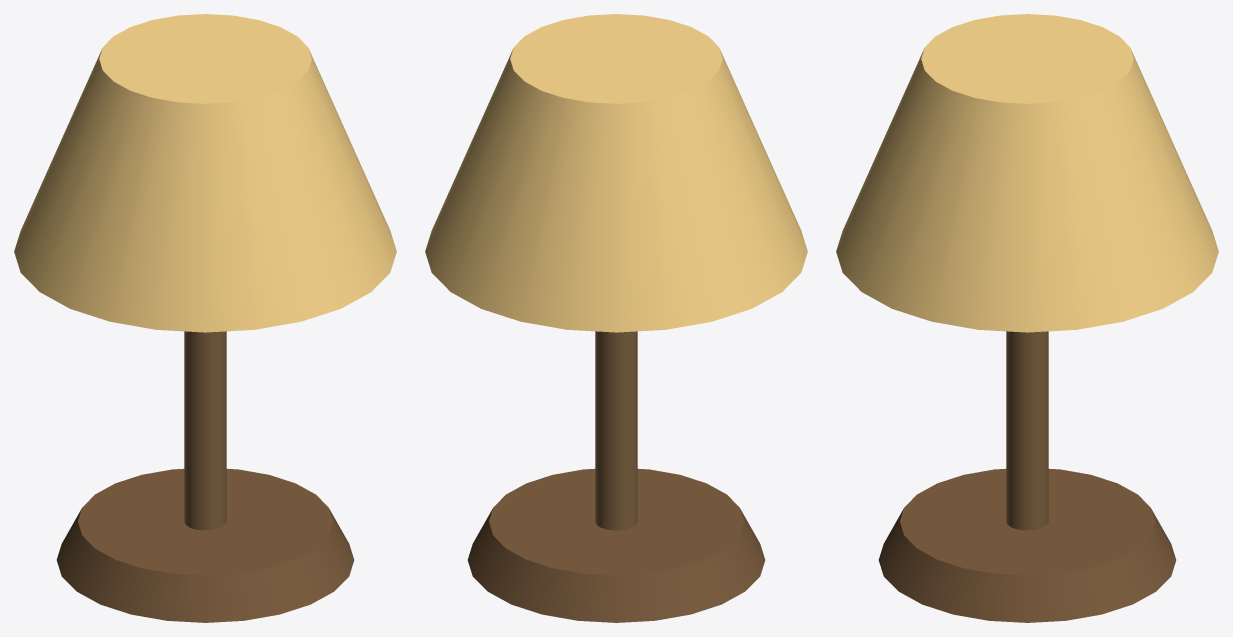
File: lamp.glb
The picture shows the model from 3 angles, left to right: view 1: azimuth 30°, elevation 25°; view 2: azimuth 150°, elevation 25°; view 3: azimuth 270°, elevation 25°; orthographic projection.
Parts seen in each view (by area): view 1: Shade, Base, Stem; view 2: Shade, Base, Stem; view 3: Shade, Base, Stem.
Boxes of the visible parts, box(x1,y1,x2,y2) form: Shade: box(14, 14, 396, 332); Base: box(56, 468, 354, 622); Stem: box(184, 331, 226, 530); Shade: box(425, 14, 807, 332); Base: box(467, 468, 765, 622); Stem: box(595, 331, 637, 530); Shade: box(836, 14, 1218, 332); Base: box(878, 468, 1176, 622); Stem: box(1006, 331, 1048, 530).
Bounding box in the file's own units: 0.36 × 0.52 × 0.36.
